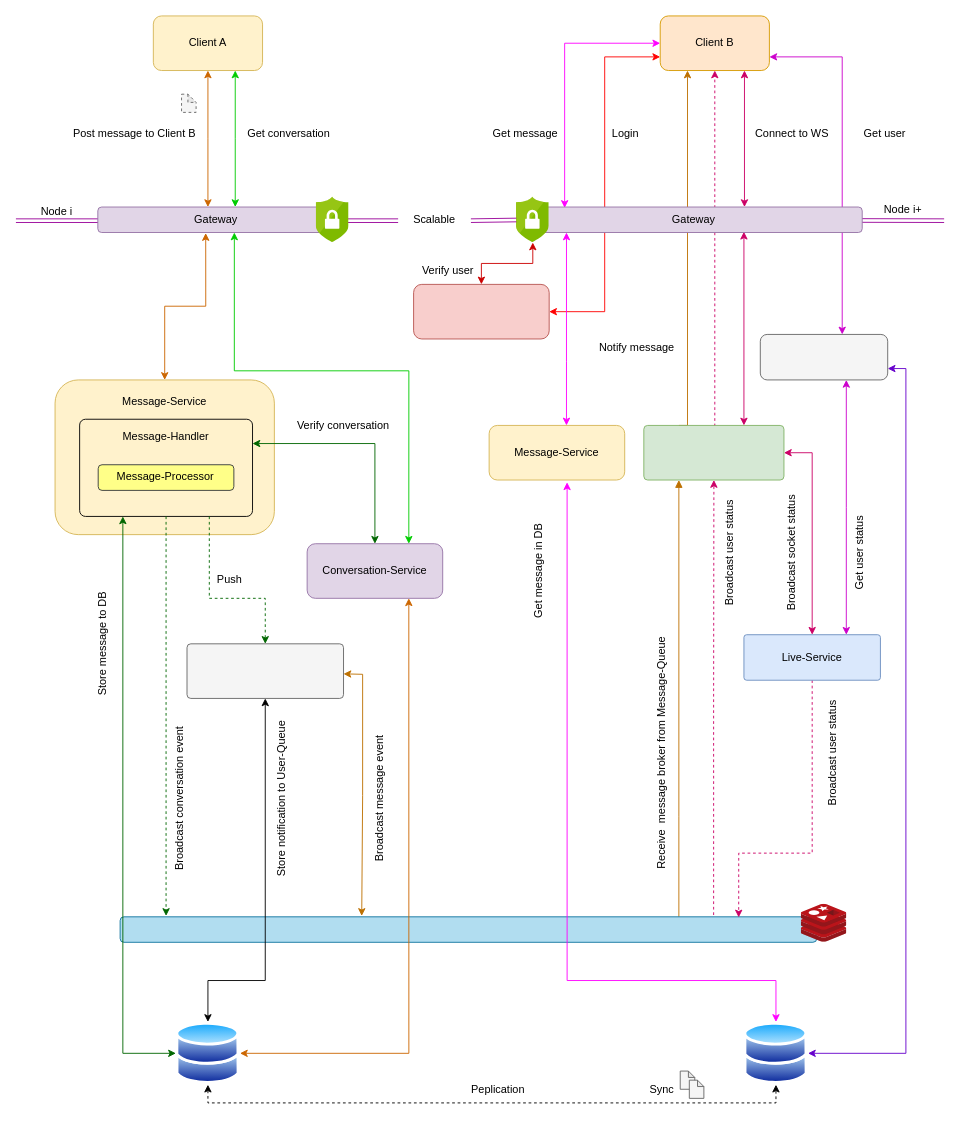
This 960x1127 diagram has some shape labels left out. Each missing label, with the centre of its shape:
Authentication-Service: pixel 481 311
Broker: pixel 468 929
Message-Queue-Service: pixel 265 670
Socket-Service: pixel 713 452
User-Service: pixel 823 357
